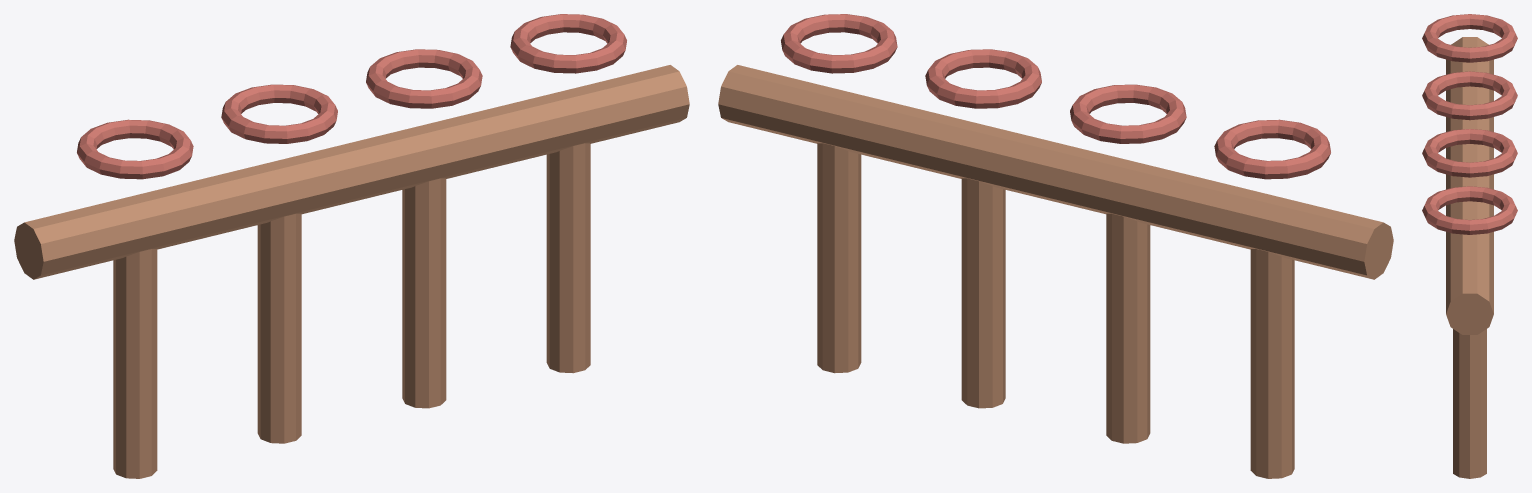
The model's file is pipe_manifold_01.glb.
3 views of the same model, side by side, from view 1: azimuth 30°, elevation 25°; view 2: azimuth 150°, elevation 25°; view 3: azimuth 270°, elevation 25° (orthographic). The views are drawn at different scales.
Visible parts, largest first — view 1: main, branch0, branch1, branch2, branch3, valve3, valve2, valve0, valve1; view 2: main, branch0, branch1, branch2, branch3, valve3, valve2, valve0, valve1; view 3: main, branch3, valve0, valve3, valve1, valve2.
Part boxes in pixels (x1,y1,x2,y2): main: [14, 65, 689, 279]; branch0: [113, 249, 157, 478]; branch1: [257, 213, 301, 443]; branch2: [402, 178, 446, 408]; branch3: [546, 143, 590, 373]; valve3: [510, 14, 626, 73]; valve2: [366, 49, 482, 108]; valve0: [77, 119, 193, 179]; valve1: [221, 84, 337, 143]; main: [718, 65, 1393, 279]; branch0: [1250, 249, 1294, 478]; branch1: [1106, 213, 1150, 443]; branch2: [961, 178, 1005, 408]; branch3: [817, 143, 861, 373]; valve3: [781, 14, 897, 73]; valve2: [925, 49, 1041, 108]; valve0: [1214, 119, 1330, 179]; valve1: [1070, 84, 1186, 143]; main: [1446, 37, 1493, 334]; branch3: [1453, 329, 1486, 478]; valve0: [1422, 14, 1517, 62]; valve3: [1422, 186, 1517, 234]; valve1: [1422, 71, 1517, 120]; valve2: [1422, 129, 1517, 177].
Bounding box in the file's own units: 1.52 × 0.74 × 0.24.
